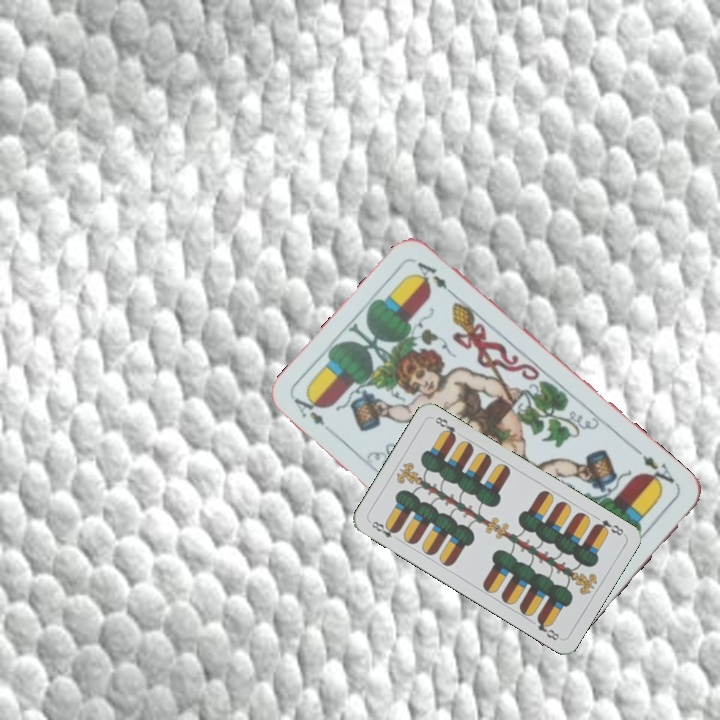E8: (590, 515, 626, 538), (366, 517, 401, 540)
EA: (632, 445, 681, 491), (290, 390, 327, 430)
